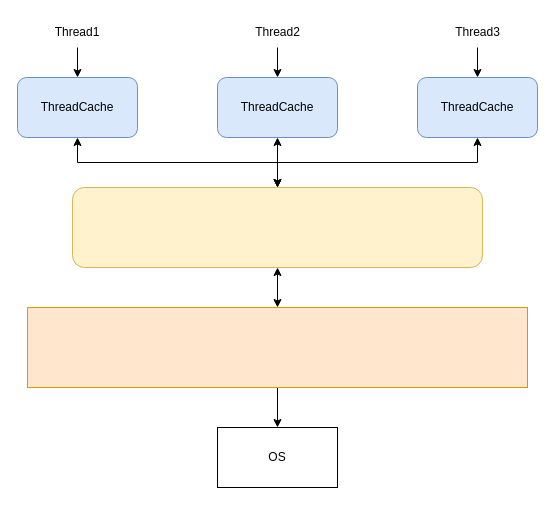
This 555x505 diagram has some shape labels left out. Here are the shapes that lost their labels. From the top down, the box of each, then its label:
(72, 186, 482, 268): CentralCache
(26, 306, 528, 388): PageCache
